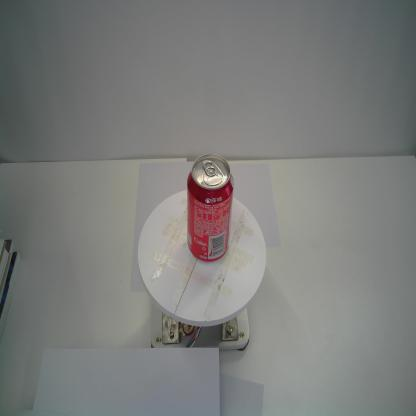Drink: (185, 152, 235, 268)
